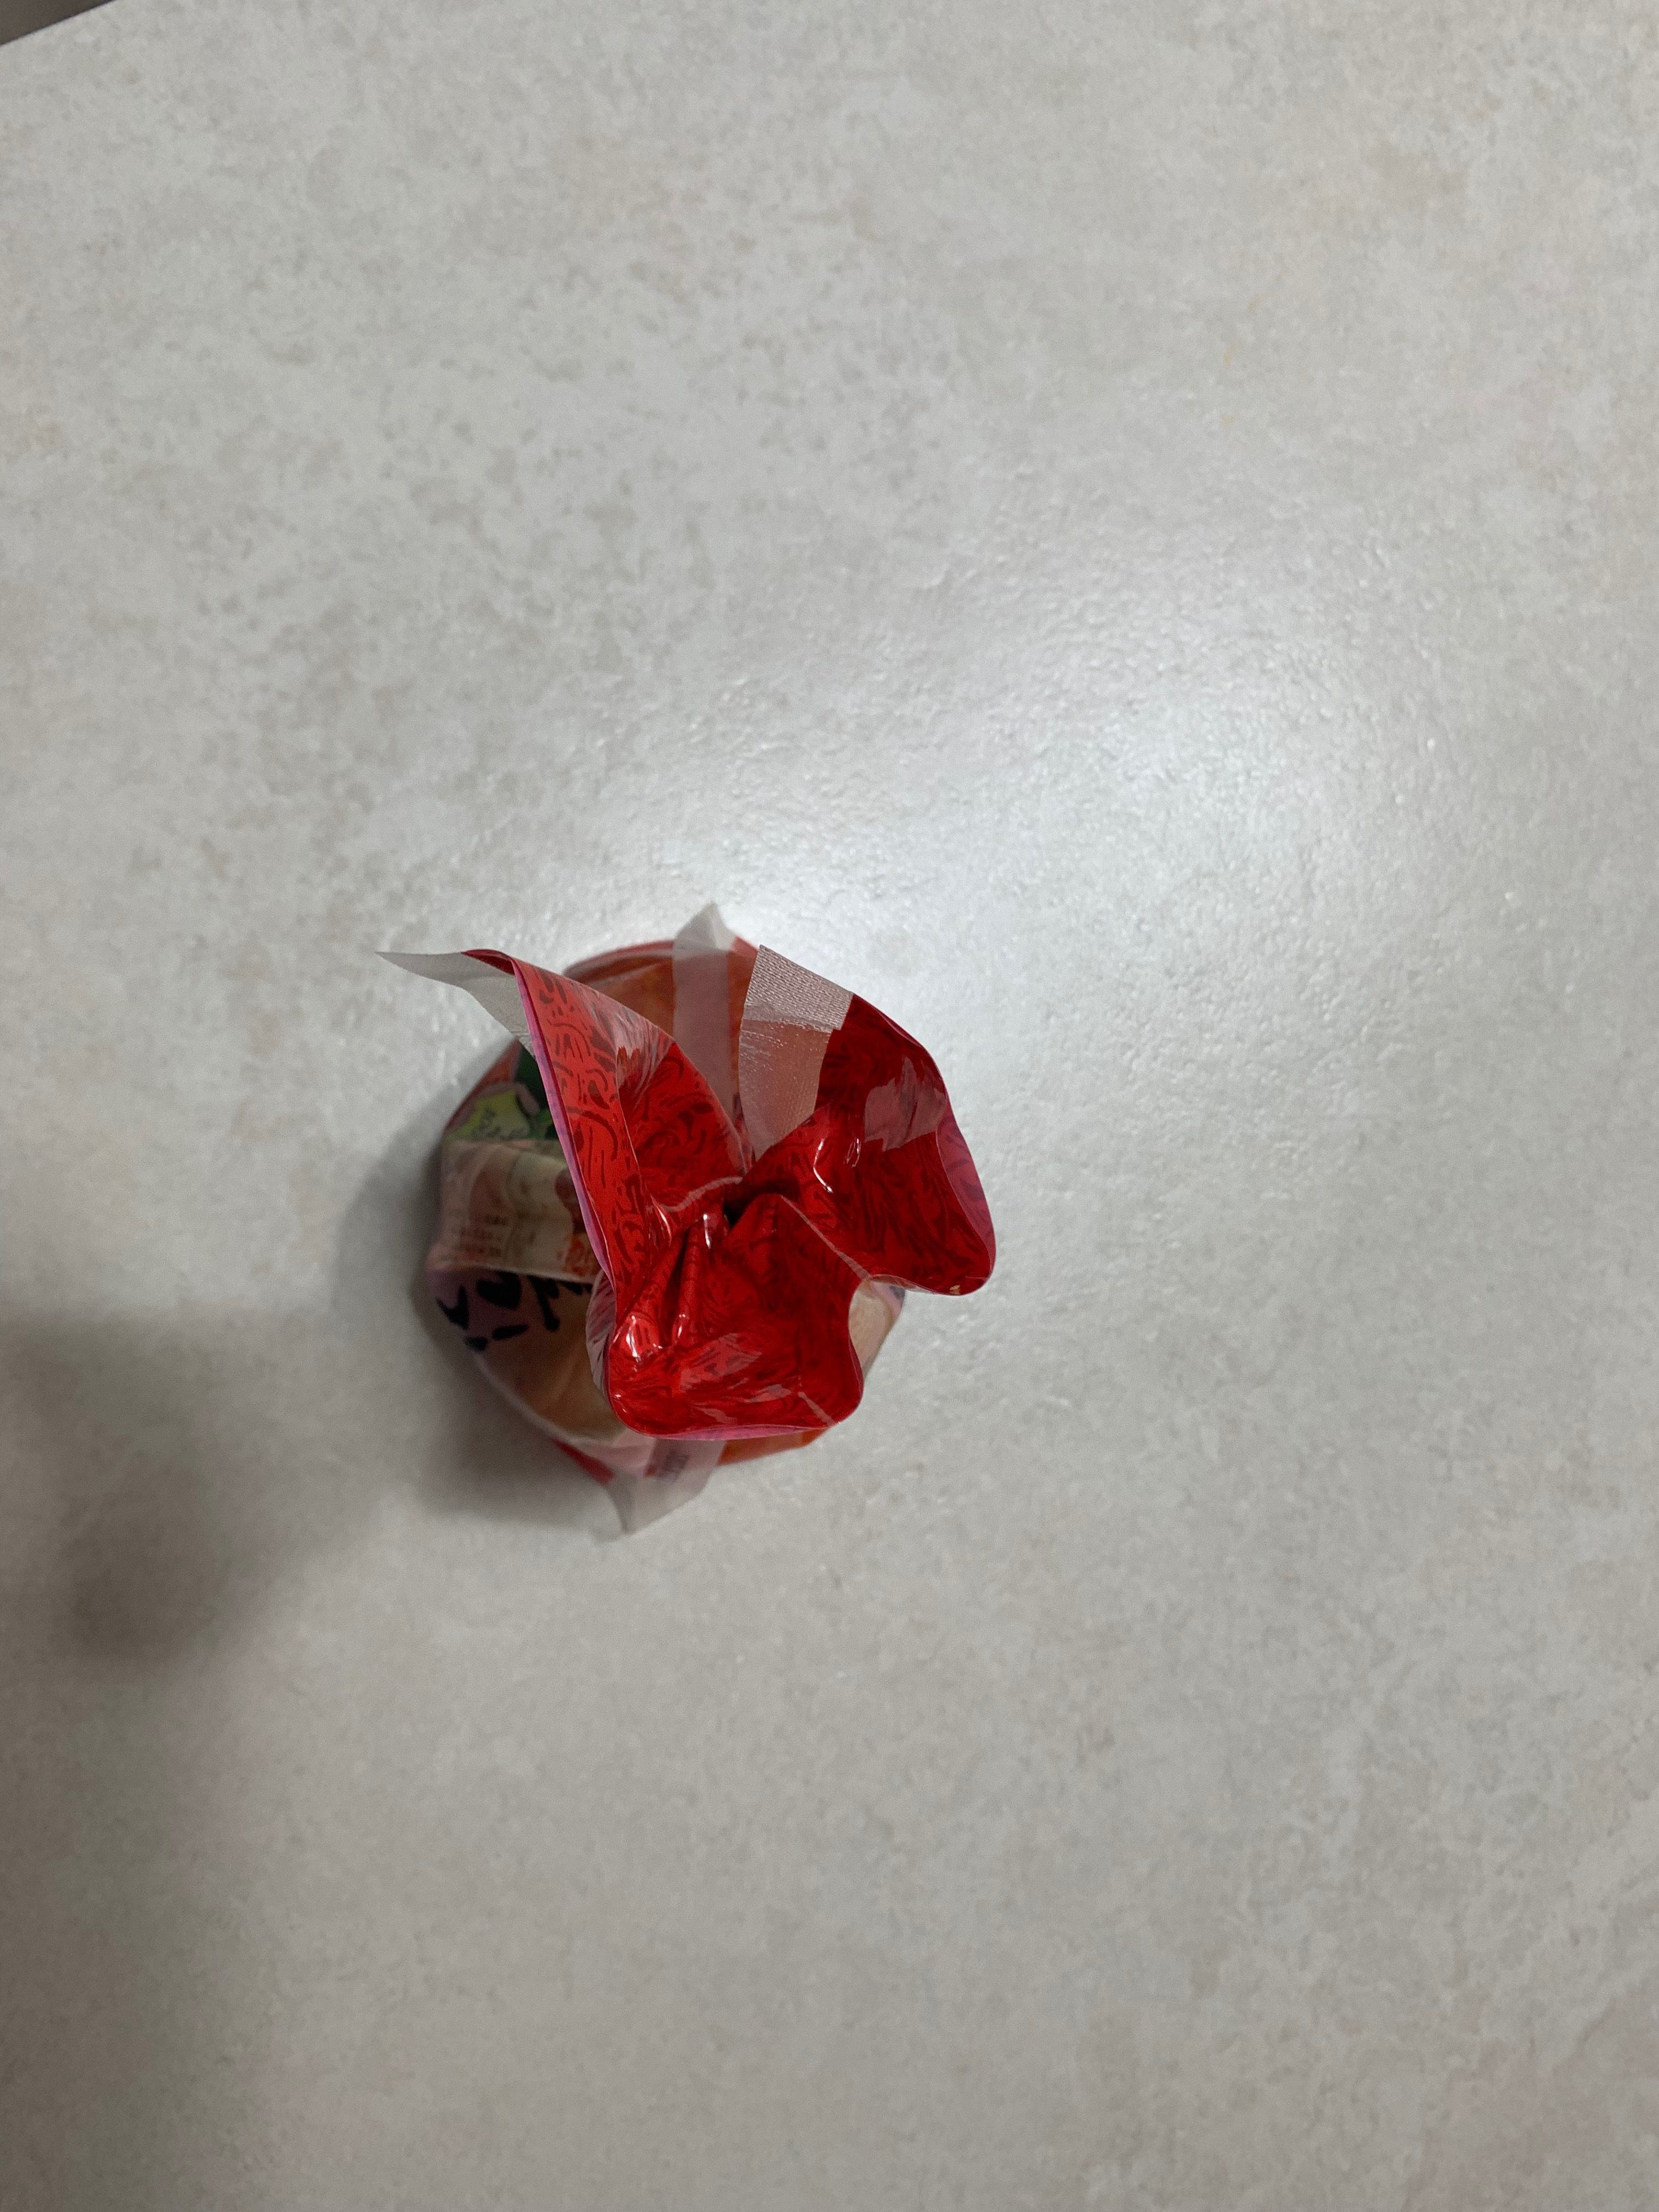kimchi: (401, 900, 997, 1536)
